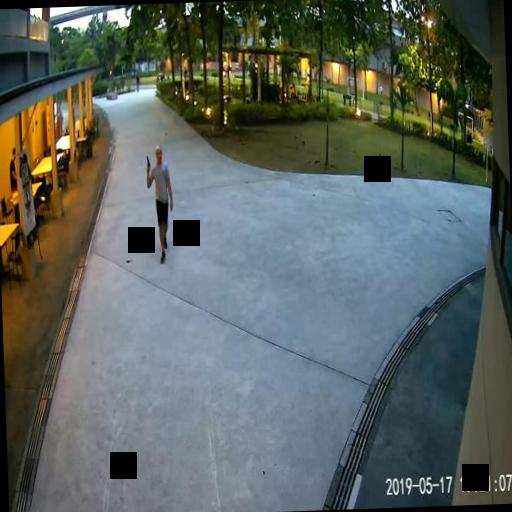Handgun: (144, 152, 150, 170)
